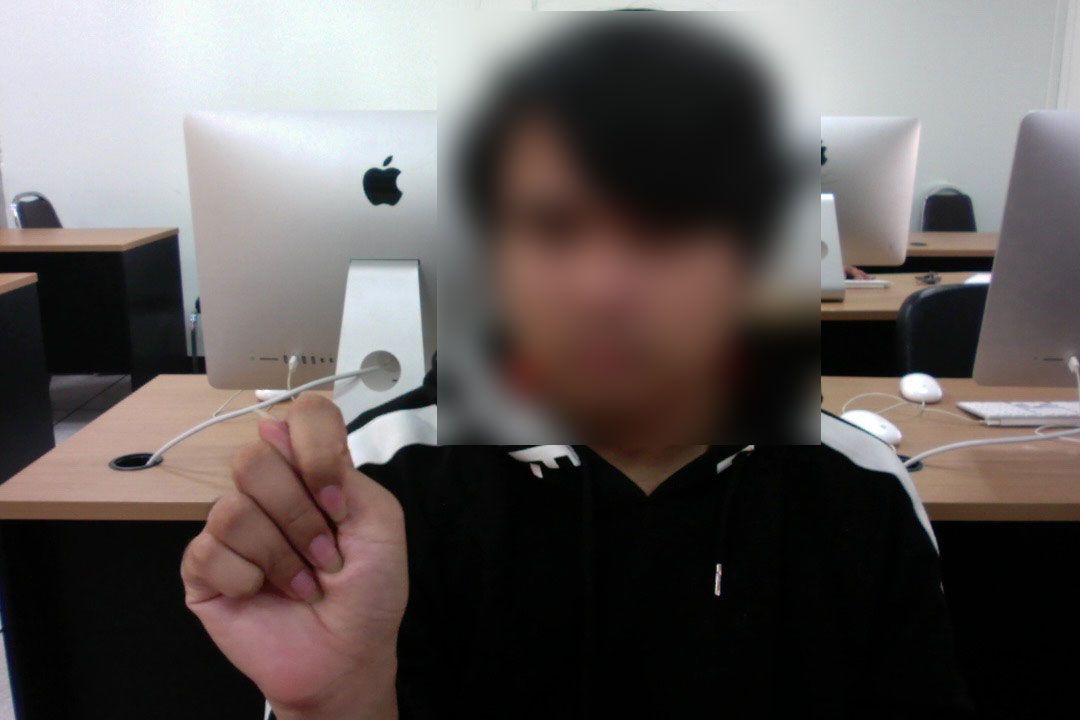tor: (175, 384, 417, 712)
